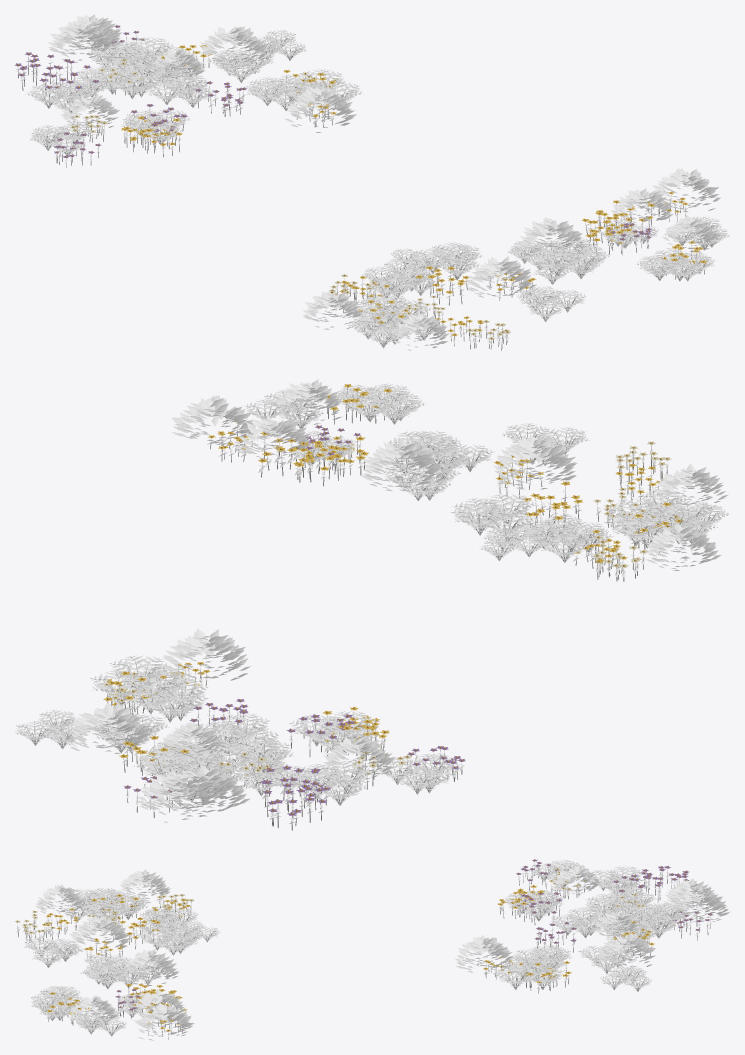
The model's file is SM_DF_Explorer_1_0_Flora.fbx.
3 views of the same model, one above another, from view 1: azimuth 30°, elevation 25°; view 2: azimuth 150°, elevation 25°; view 3: azimuth 270°, elevation 25° (orthographic). The views are drawn at different scales.
Parts seen in each view (by area): view 1: SM_DF_Explorer_1_0_Flora; view 2: SM_DF_Explorer_1_0_Flora; view 3: SM_DF_Explorer_1_0_Flora.
Part boxes in pixels (box(x1,y1,x2,y2)): SM_DF_Explorer_1_0_Flora: box(14, 14, 729, 350); SM_DF_Explorer_1_0_Flora: box(15, 379, 728, 830); SM_DF_Explorer_1_0_Flora: box(14, 859, 730, 1040).
Bounding box in the file's own units: 1603 × 2548 × 191.
